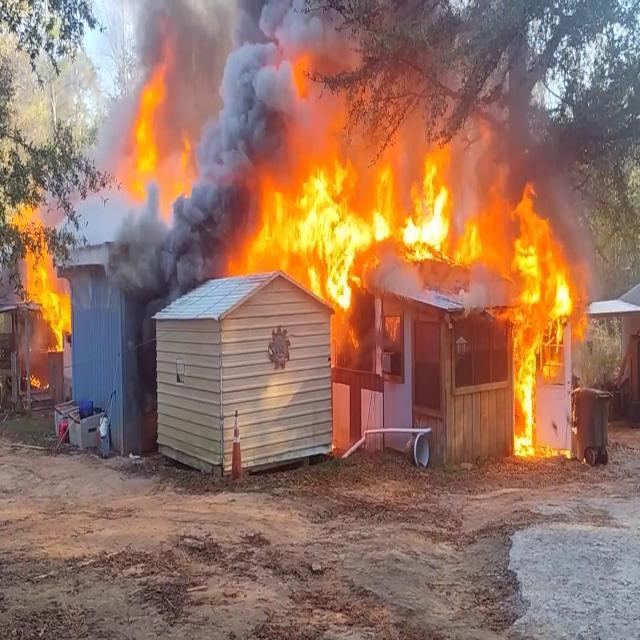Fire: (220, 136, 522, 312), (502, 176, 586, 460), (116, 62, 200, 212), (11, 196, 75, 352)
